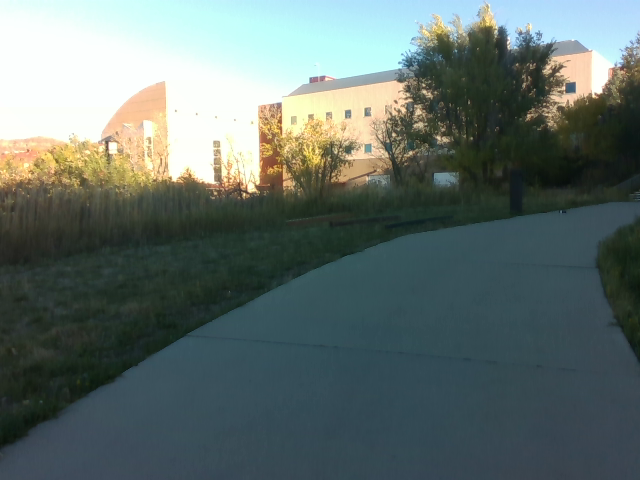Dunnage: (278, 207, 463, 234)
